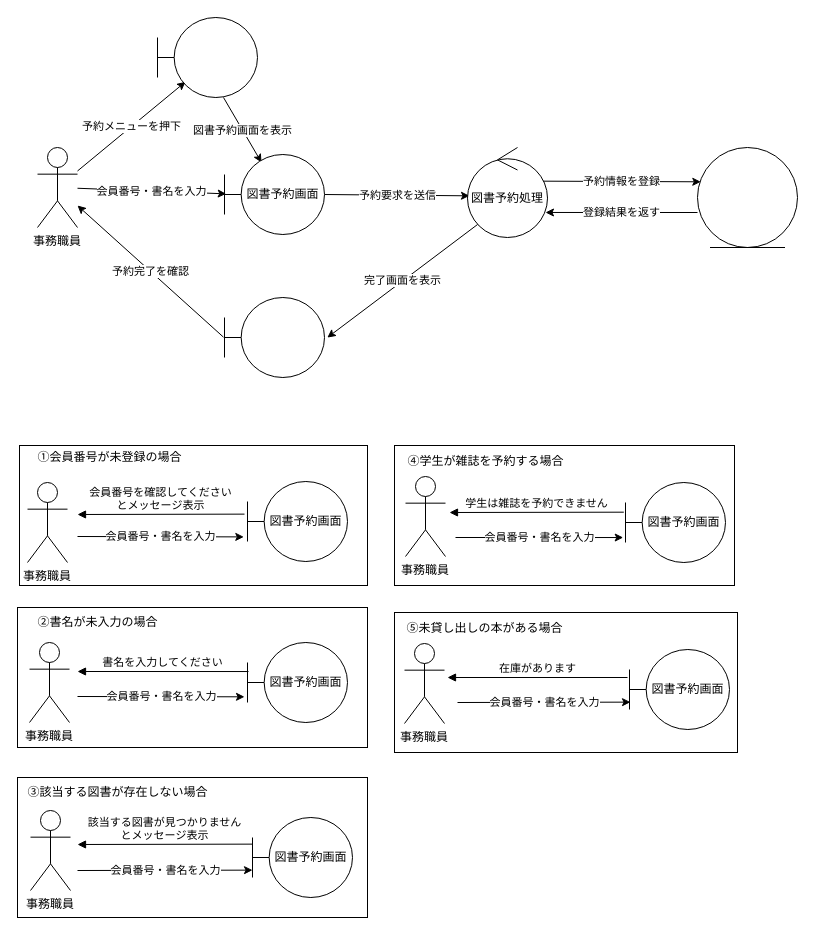
Some shapes in this 815 by 935 pixel diagram are drawn without their labels. Here are the shapes that lost their labels. From the top down, the centre of each, then its label:
At (207,57): "メニュー画面".
At (747,197): "図書データベース".
At (274,337): "予約完了画面".
